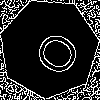O: (24, 23, 83, 80)
